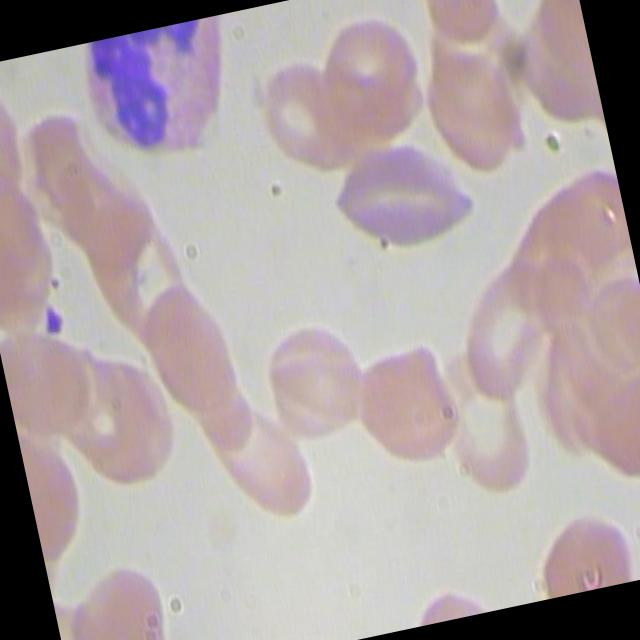Platelets: (34, 298, 70, 338)
RBC: (314, 125, 484, 268), (401, 22, 530, 185), (417, 335, 542, 500), (71, 188, 198, 344), (132, 269, 255, 421), (200, 394, 321, 528), (253, 312, 374, 445), (250, 44, 370, 178), (310, 1, 430, 134), (350, 336, 466, 467), (0, 310, 110, 444), (532, 157, 634, 284), (523, 494, 637, 599), (54, 553, 175, 640), (573, 355, 640, 482), (0, 60, 36, 206)
WBC: (71, 16, 242, 180)
